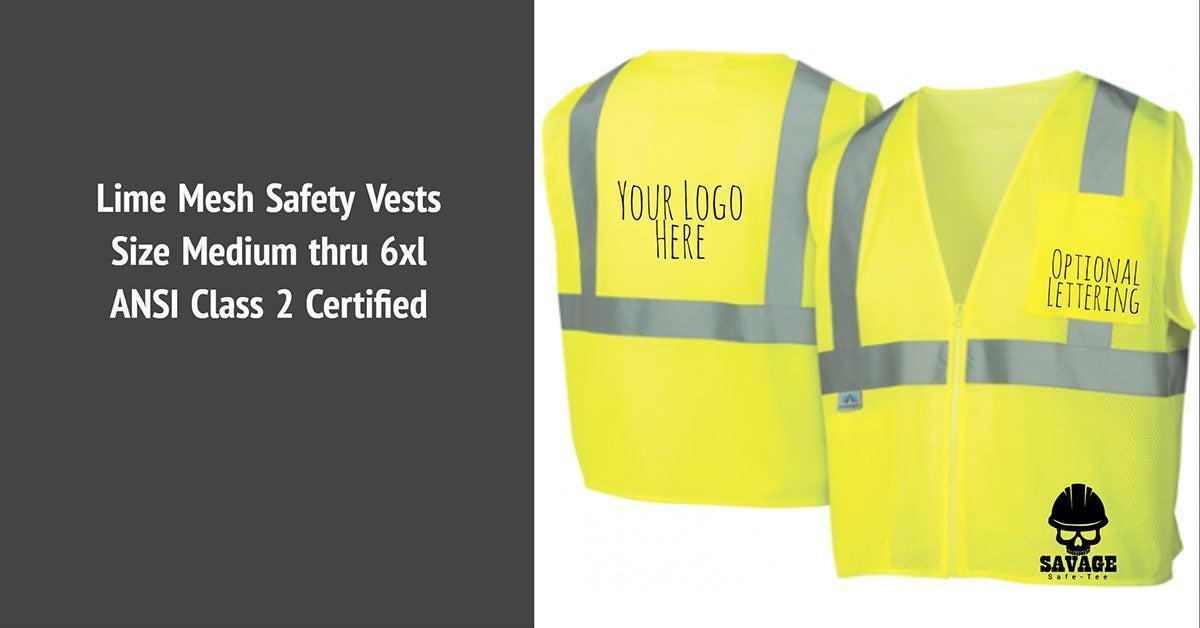vest: (802, 74, 1192, 591), (542, 51, 890, 512)
